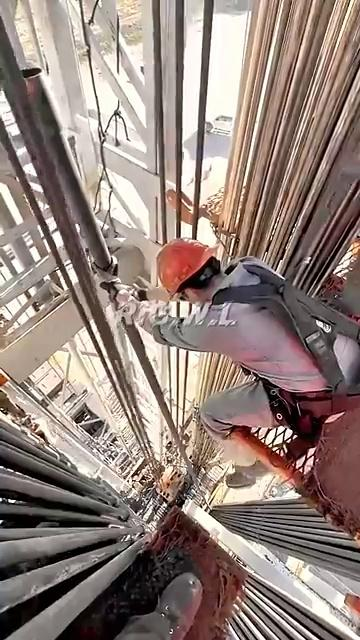gloves: (70, 253, 133, 325)
helmet: (137, 228, 213, 295)
shoes: (195, 435, 297, 507)
worker: (48, 203, 359, 570)
